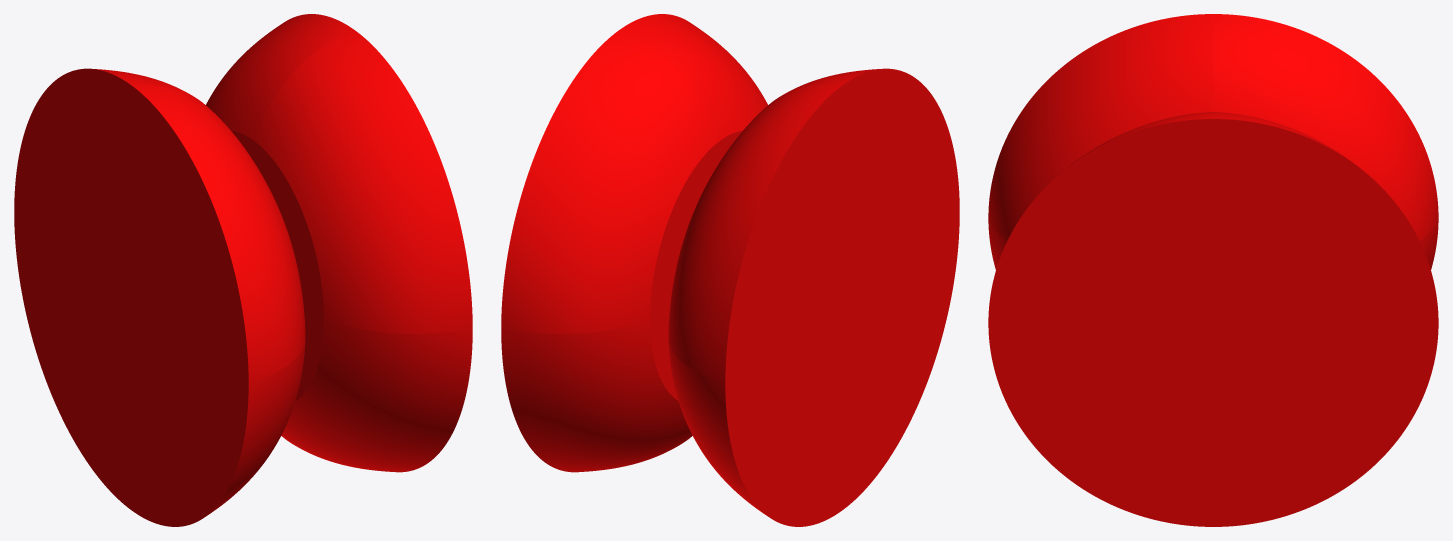
Rendered from redYoyo.fbx.
3 views of the same model, side by side, from view 1: azimuth 30°, elevation 25°; view 2: azimuth 150°, elevation 25°; view 3: azimuth 270°, elevation 25° (orthographic). The views are drawn at different scales.
Parts seen in each view (by area): view 1: Body; view 2: Body; view 3: Body.
Part boxes in pixels (x1,y1,x2,y2): Body: (14, 14, 472, 526); Body: (501, 14, 959, 526); Body: (988, 14, 1438, 526).
Bounding box in the file's own units: 2.21 × 4 × 4.
